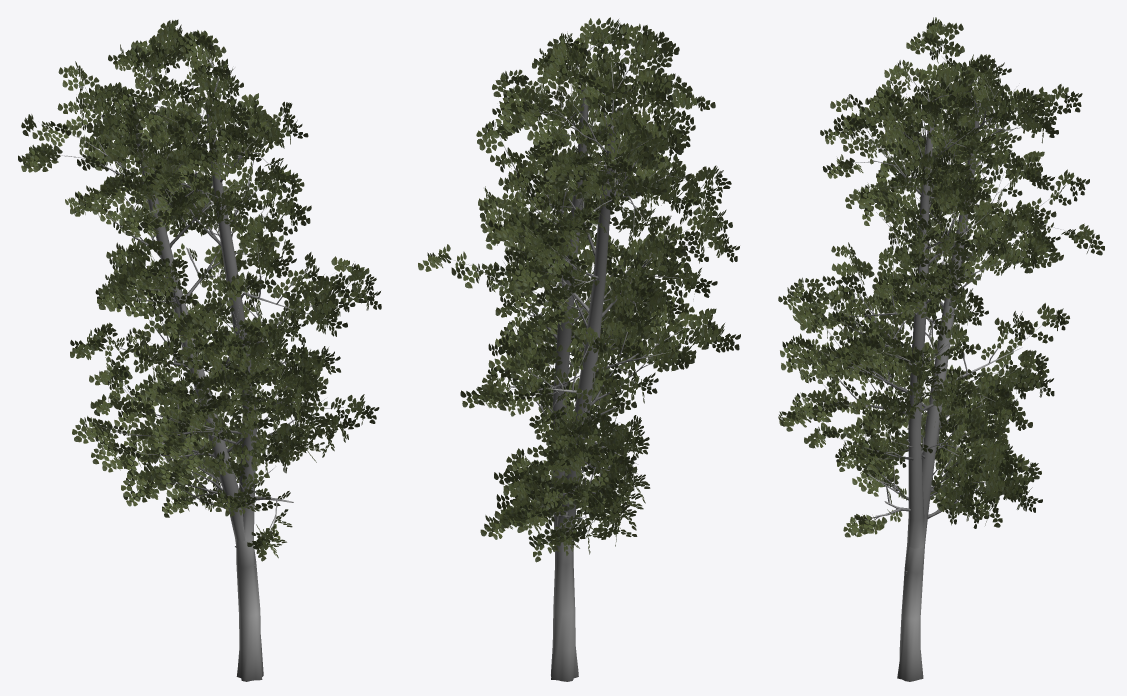
Rendered from BlackCW_Tall_mdl.fbx.
3 views of the same model, side by side, from view 1: azimuth 30°, elevation 25°; view 2: azimuth 150°, elevation 25°; view 3: azimuth 270°, elevation 25° (orthographic). The views are drawn at different scales.
Visible parts, largest first — view 1: BlackCW_Tall_LOD0; view 2: BlackCW_Tall_LOD0; view 3: BlackCW_Tall_LOD0.
Part boxes in pixels (box(x1,y1,x2,y2)): BlackCW_Tall_LOD0: box(18, 19, 381, 681); BlackCW_Tall_LOD0: box(418, 17, 740, 681); BlackCW_Tall_LOD0: box(778, 17, 1104, 681).
Size of the model in its own units: 1421 by 2720 by 1359.
